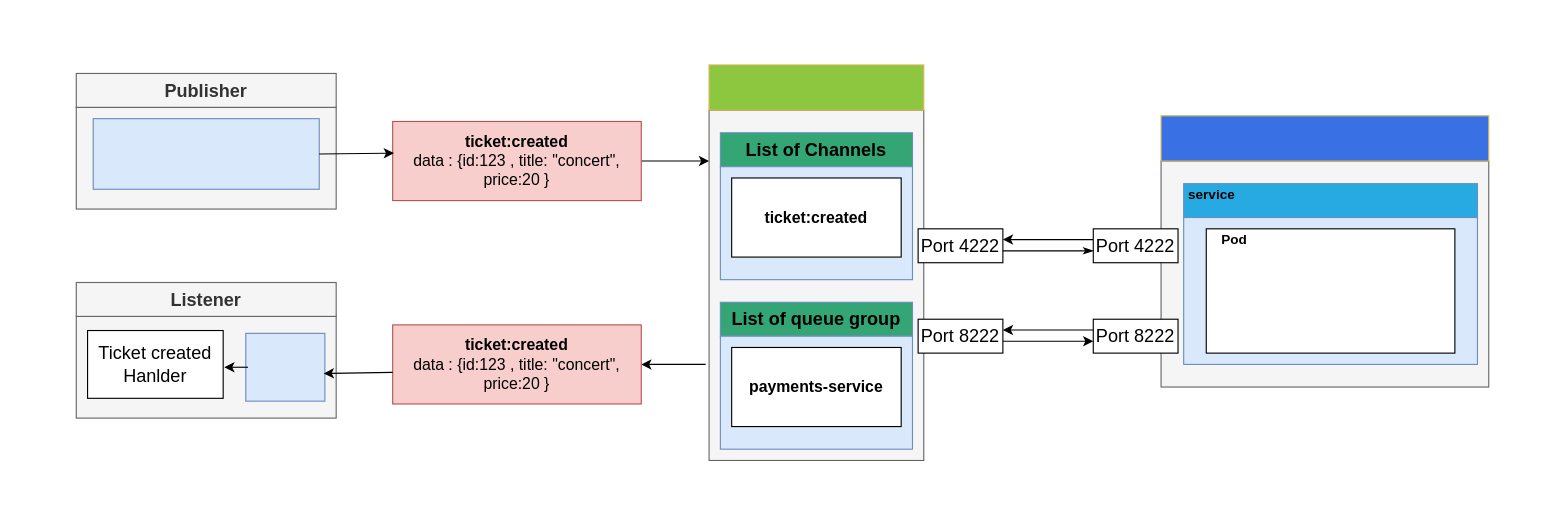
The diagram is 1555 pixels wide and 527 high, and some of its shapes have lost their labels. The box of each missing label's shape, as (x1, y1, x2, y2) in pixels:
K8S cluster: (1160, 115, 1489, 161)
nats nats-streaming:0.17.0: (1205, 228, 1455, 353)
NATS Streaming: (708, 64, 924, 110)
nats-srv: (1183, 182, 1477, 218)
ticket Listener: (245, 332, 325, 401)
ticket Publisher: (92, 118, 319, 189)
